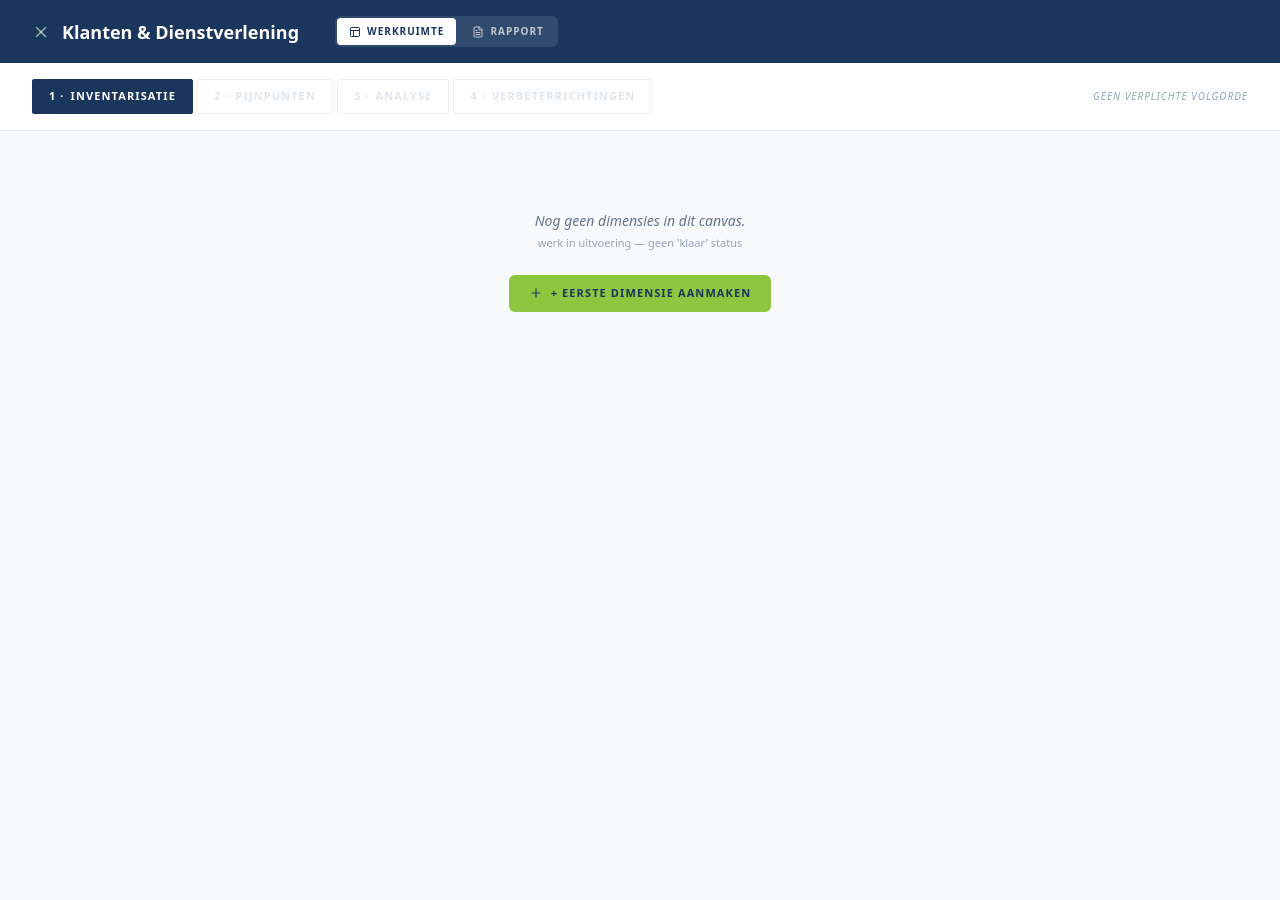
Test: KlantenWerkblad — lege-canvas flow (stap 11.E correctie) › submit disabled tot archetype + naam ingevuld; bij valid invoer slaat dimensie op
Note: Open modal
Click the button with test id "dimensie-cta-eerste".
click(640, 293)  # box left=509, top=275, right=771, bottom=312
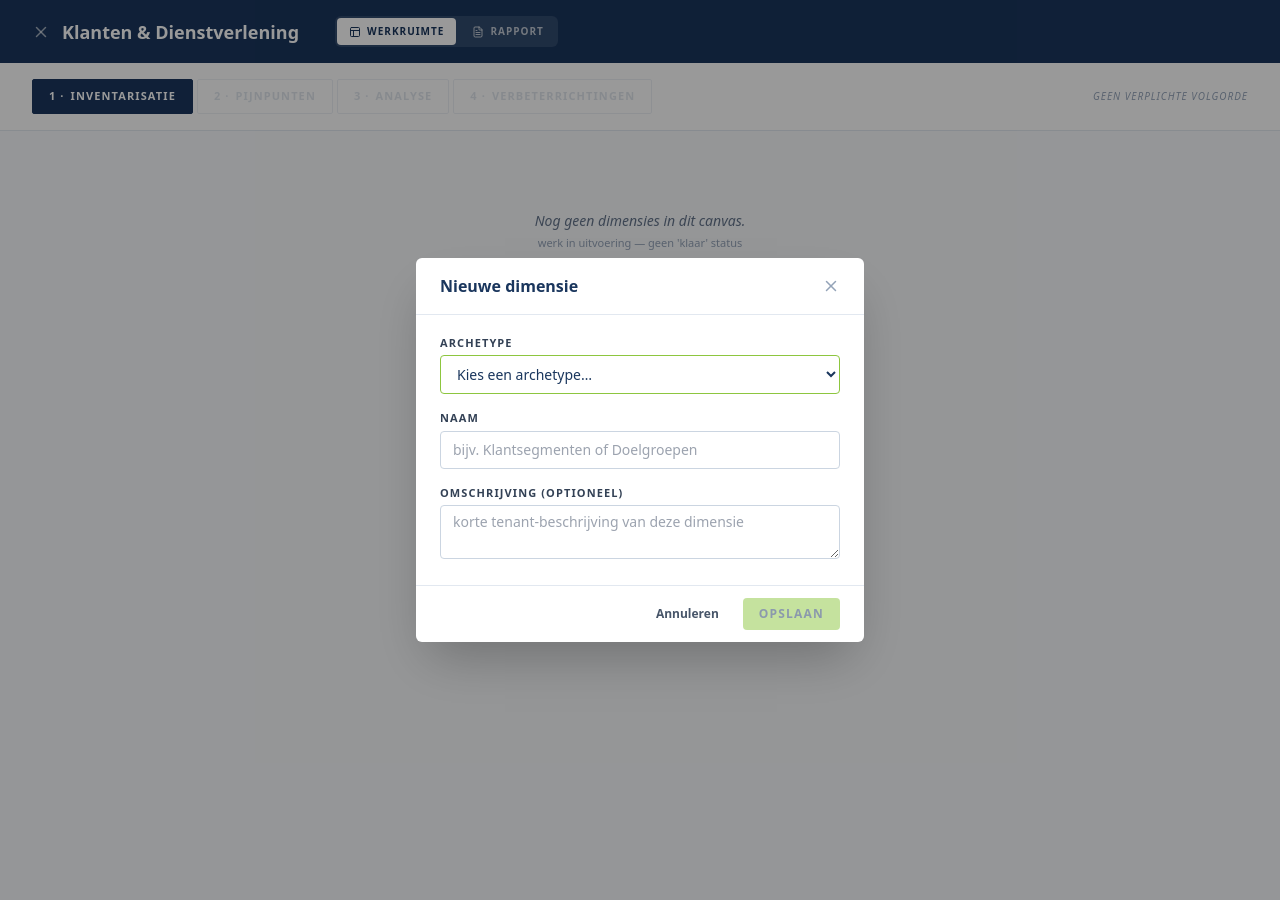
Expected: the button "Opslaan" is disabled, left=743, top=598, right=840, bottom=630
Note: Selecteer archetype "klantsegment"
Select "Klantsegment" in the dropdown labelled "Archetype" at [640, 375], box left=440, top=355, right=840, bottom=394
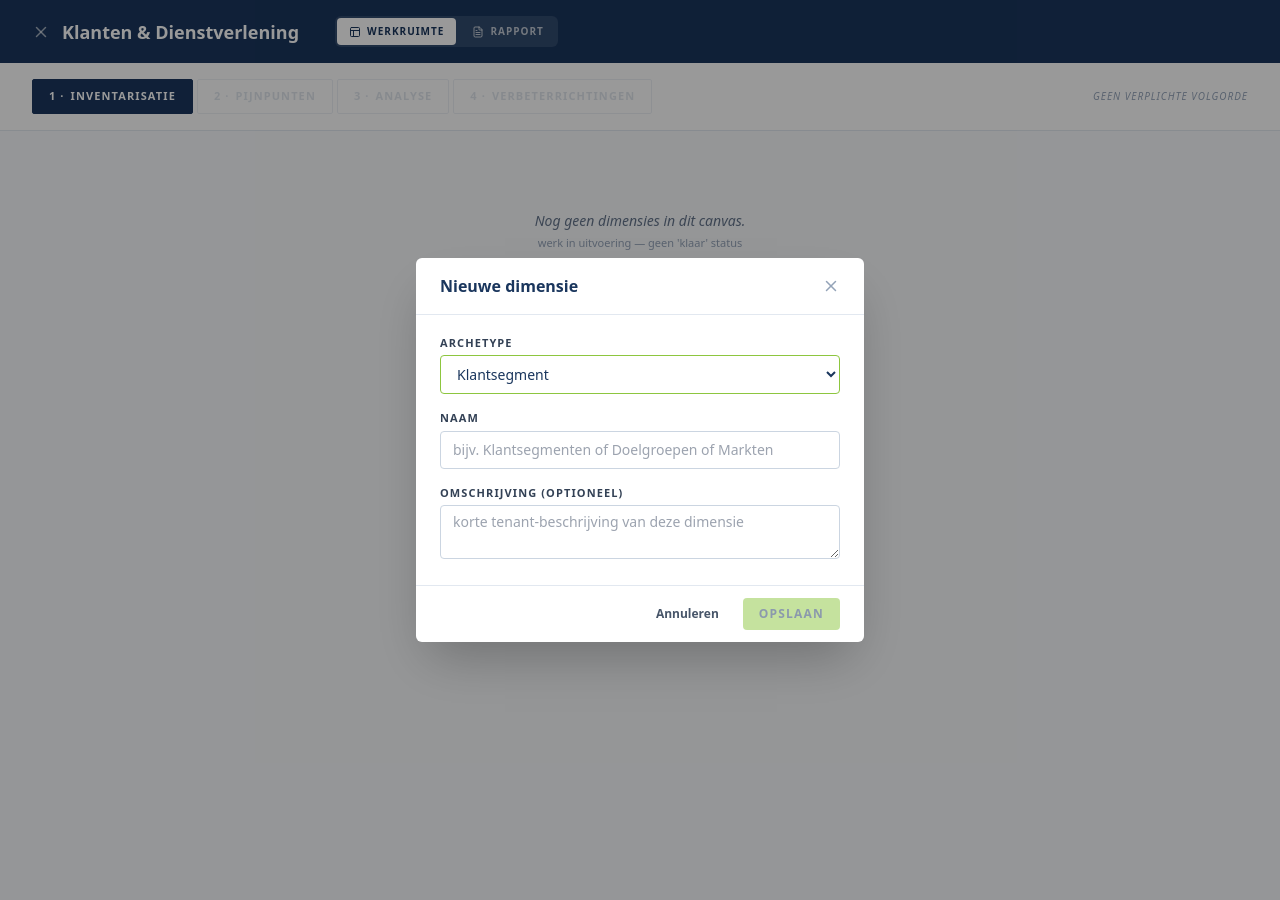
Expected: the button "Opslaan" is disabled, left=743, top=598, right=840, bottom=630
Note: Vul naam in
Type "Test-segmenten" into the field labelled "Naam".
click(640, 450); type("Test-segmenten")  # box left=440, top=431, right=840, bottom=469
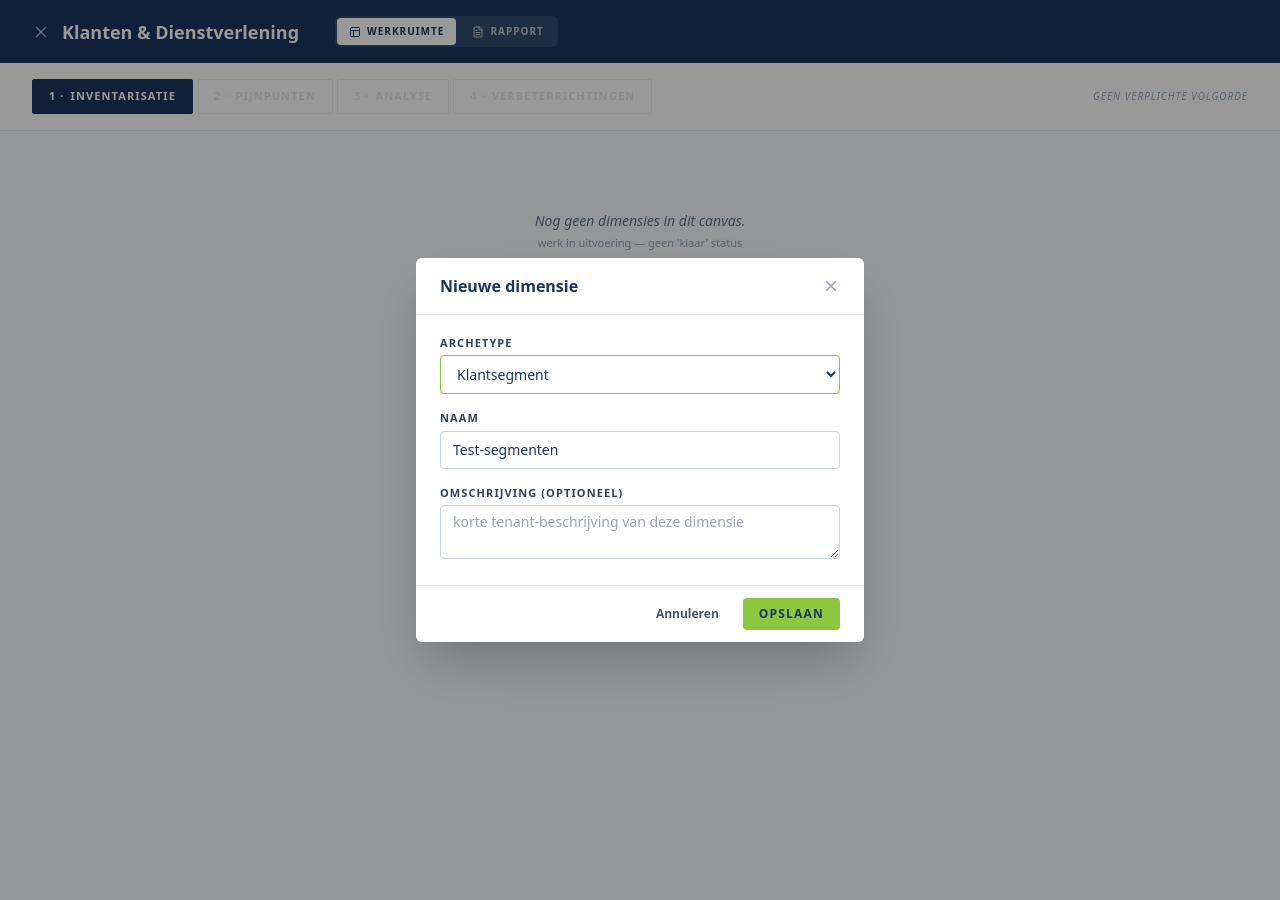
Expected: the button "Opslaan" is enabled, left=743, top=598, right=840, bottom=630
Note: Vul ook omschrijving voor volledigheid
Type "test-omschrijving" into the text box labelled "Omschrijving (optioneel)".
click(640, 532); type("test-omschrijving")  # box left=440, top=505, right=840, bottom=559
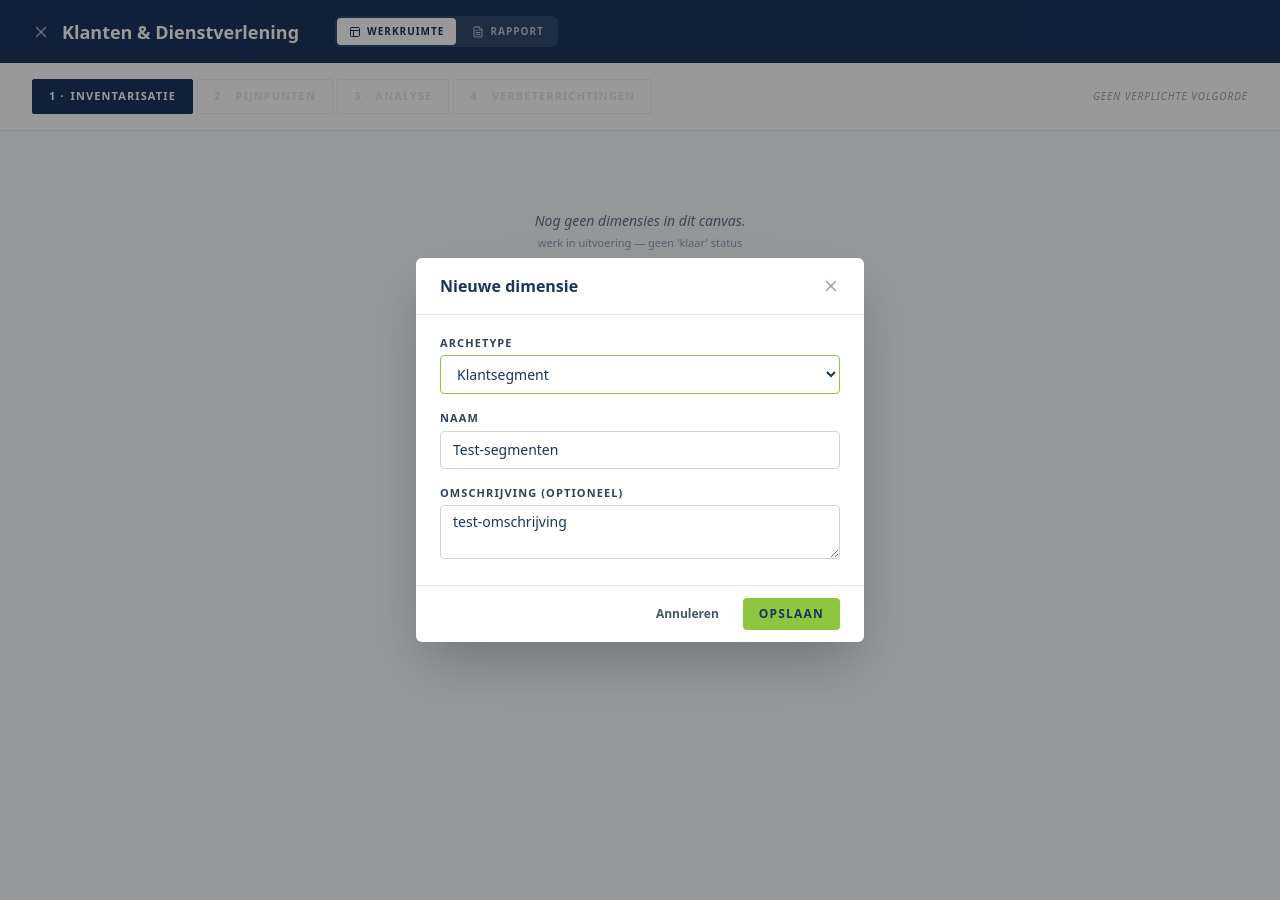
Note: Click submit
Click the button "Opslaan".
click(791, 614)  # box left=743, top=598, right=840, bottom=630
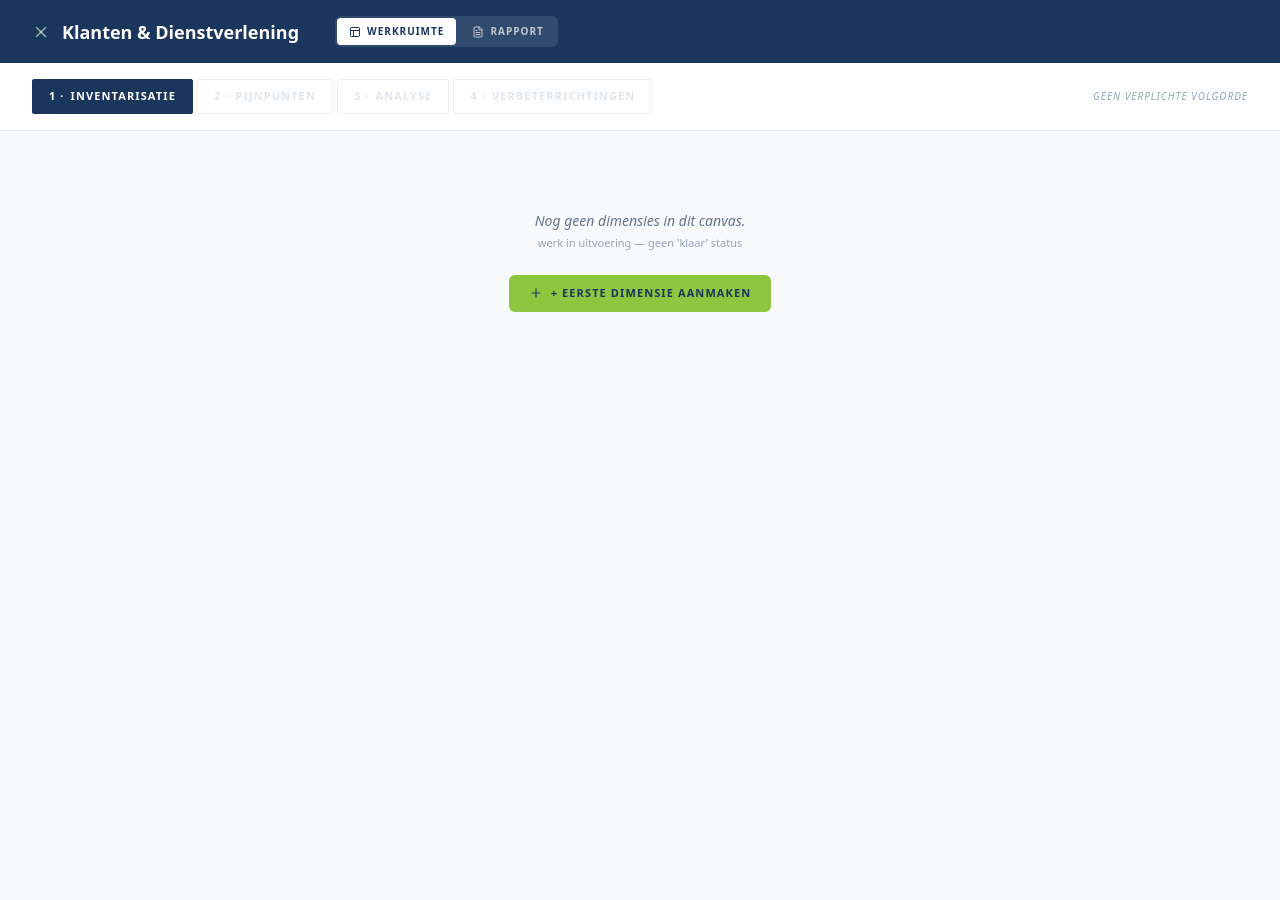
Expected: the heading "Nieuwe dimensie" is gone
